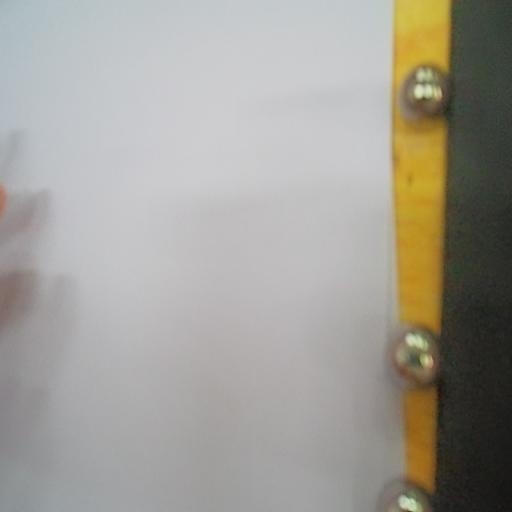steel-ball: (385, 49, 457, 129), (390, 320, 442, 390), (380, 468, 430, 512)
